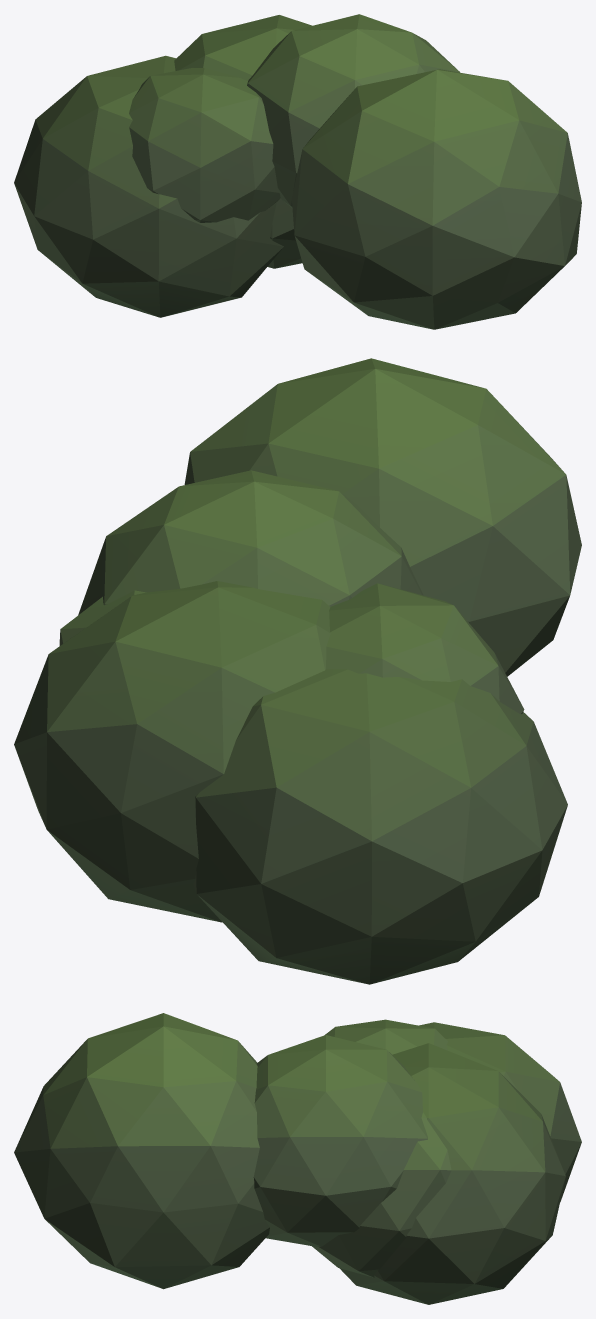
The model's file is busch_breit.glb.
3 views of the same model, one above another, from view 1: azimuth 30°, elevation 25°; view 2: azimuth 150°, elevation 25°; view 3: azimuth 270°, elevation 25° (orthographic). The views are drawn at different scales.
Visible parts, largest first — view 1: busch_breit; view 2: busch_breit; view 3: busch_breit.
Boxes of the visible parts, x1,y1,x2,y2 form: busch_breit: [14, 14, 581, 329]; busch_breit: [14, 358, 581, 984]; busch_breit: [14, 1013, 581, 1304].
Size of the model in its own units: 2.9 by 2.1 by 3.79.
